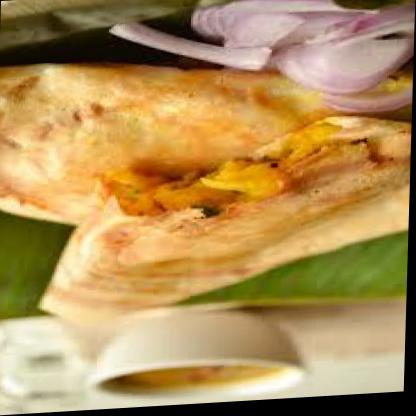dosa: (40, 117, 412, 324), (0, 47, 414, 230)
